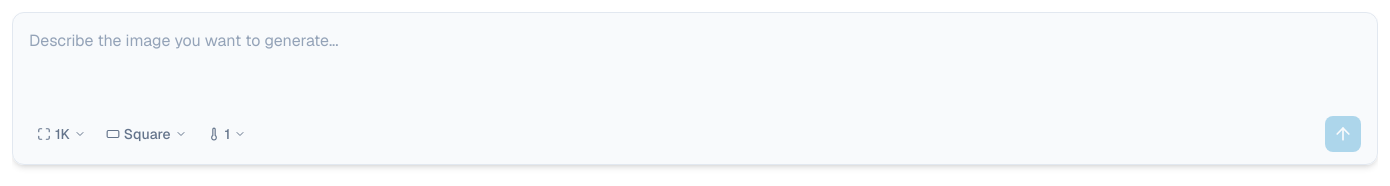
it: TextToImageForm › submit button is enabled when prompt has text
The width and height of the screenshot is (1390, 186).
Type "A beautiful sunset" into the text box with placeholder "Describe the image you want to generate...".
click(695, 61); type("A beautiful sunset")  # box [13,13,1377,109]
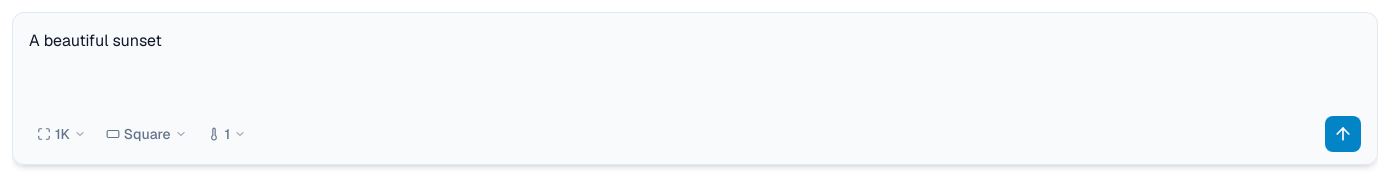
Check: the 4th button is enabled, box [1325,116,1361,152]
